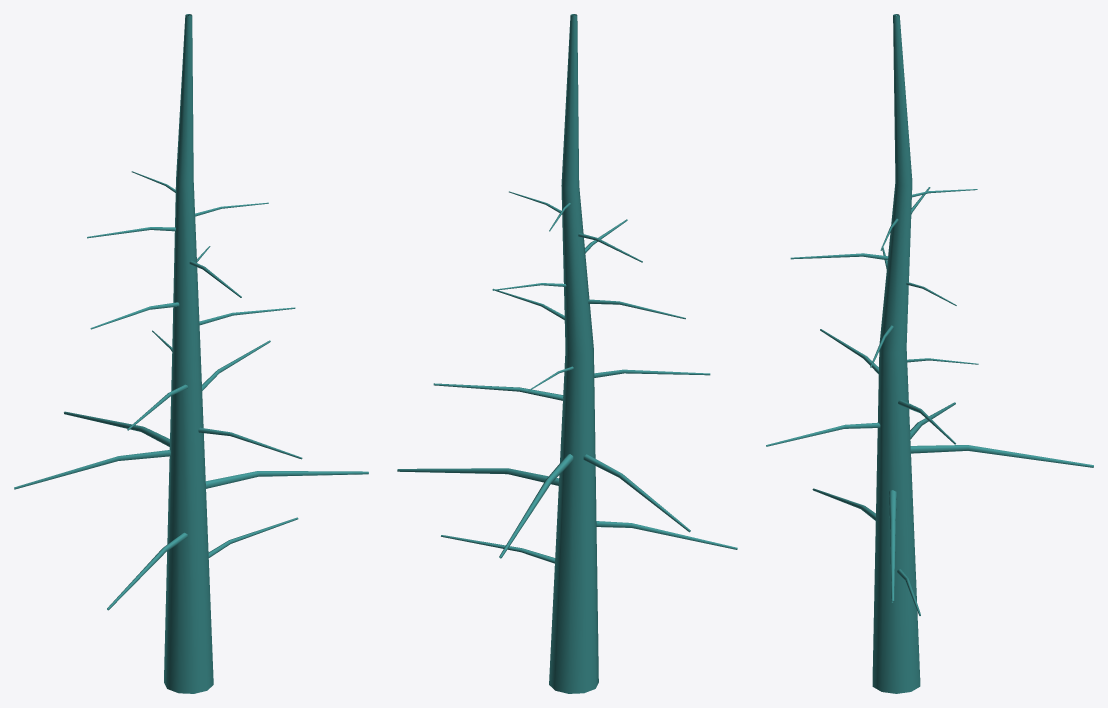
File: furTree_dead_lod0.FBX
3 renders of one model, left to right at view 1: azimuth 30°, elevation 25°; view 2: azimuth 150°, elevation 25°; view 3: azimuth 270°, elevation 25°, orthographic.
Visible parts, largest first — view 1: furTree_dead_lod0; view 2: furTree_dead_lod0; view 3: furTree_dead_lod0.
Boxes of the visible parts, x1=… form: furTree_dead_lod0: x1=14, y1=14, x2=368, y2=693; furTree_dead_lod0: x1=397, y1=14, x2=737, y2=693; furTree_dead_lod0: x1=766, y1=14, x2=1093, y2=693.
Size of the model in its own units: 6742 by 13304 by 5919.
